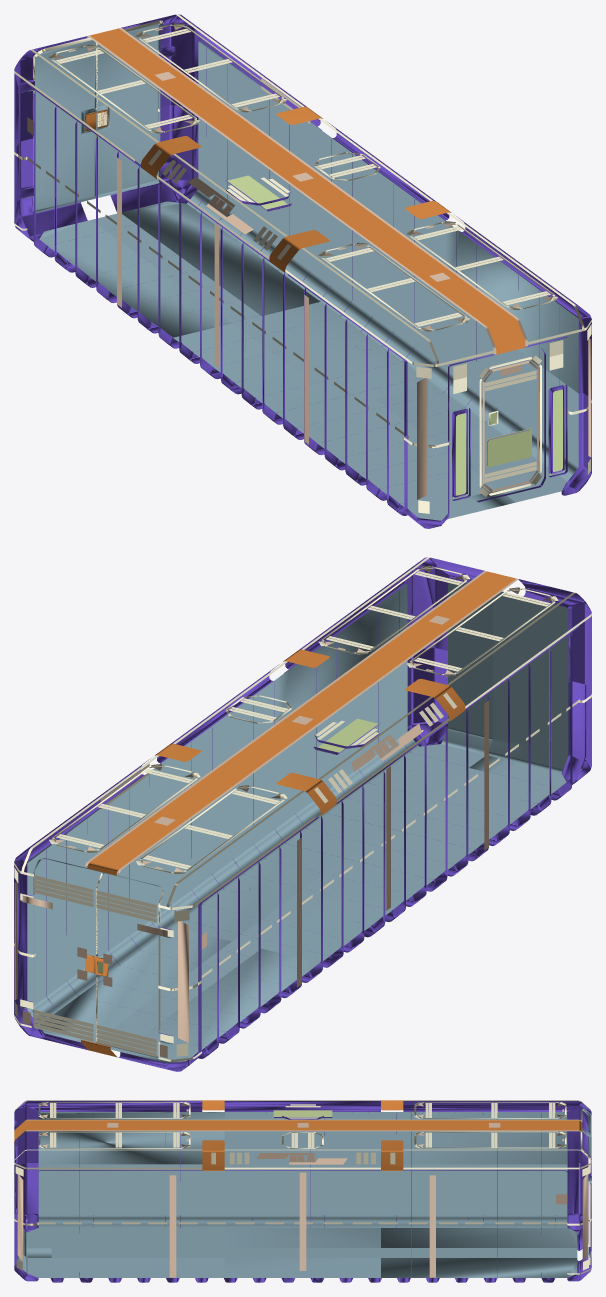
File: shipping_container_yellow.glb
The picture shows the model from 3 angles, top to bottom: view 1: azimuth 30°, elevation 25°; view 2: azimuth 150°, elevation 25°; view 3: azimuth 270°, elevation 25°; orthographic projection. The views are drawn at different scales.
Bounding box in the file's own units: 2.5 × 2.51 × 10.01.
